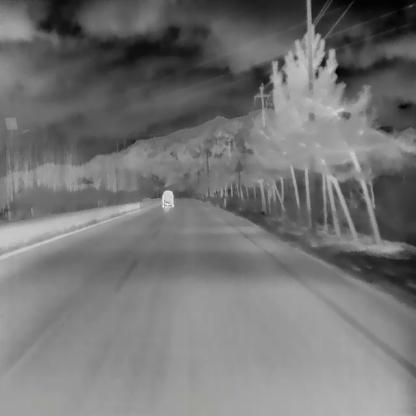car: (161, 189, 174, 207)
